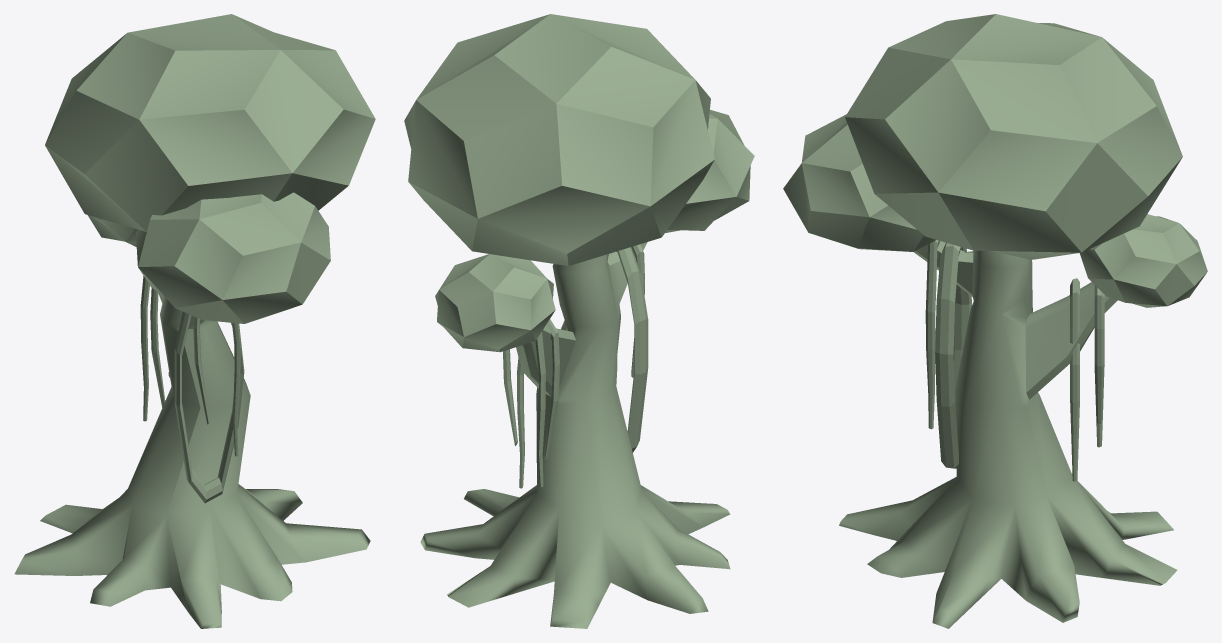
File: a_z3_TreeM.fbx
3 views of the same model, side by side, from view 1: azimuth 30°, elevation 25°; view 2: azimuth 150°, elevation 25°; view 3: azimuth 270°, elevation 25° (orthographic). The views are drawn at different scales.
Parts seen in each view (by area): view 1: a_z3_TreeM; view 2: a_z3_TreeM; view 3: a_z3_TreeM.
Boxes of the visible parts, <box> form: a_z3_TreeM: <box>14,14,375,628</box>; a_z3_TreeM: <box>404,14,754,628</box>; a_z3_TreeM: <box>783,14,1207,628</box>.
Bounding box in the file's own units: 629 × 985 × 717.
